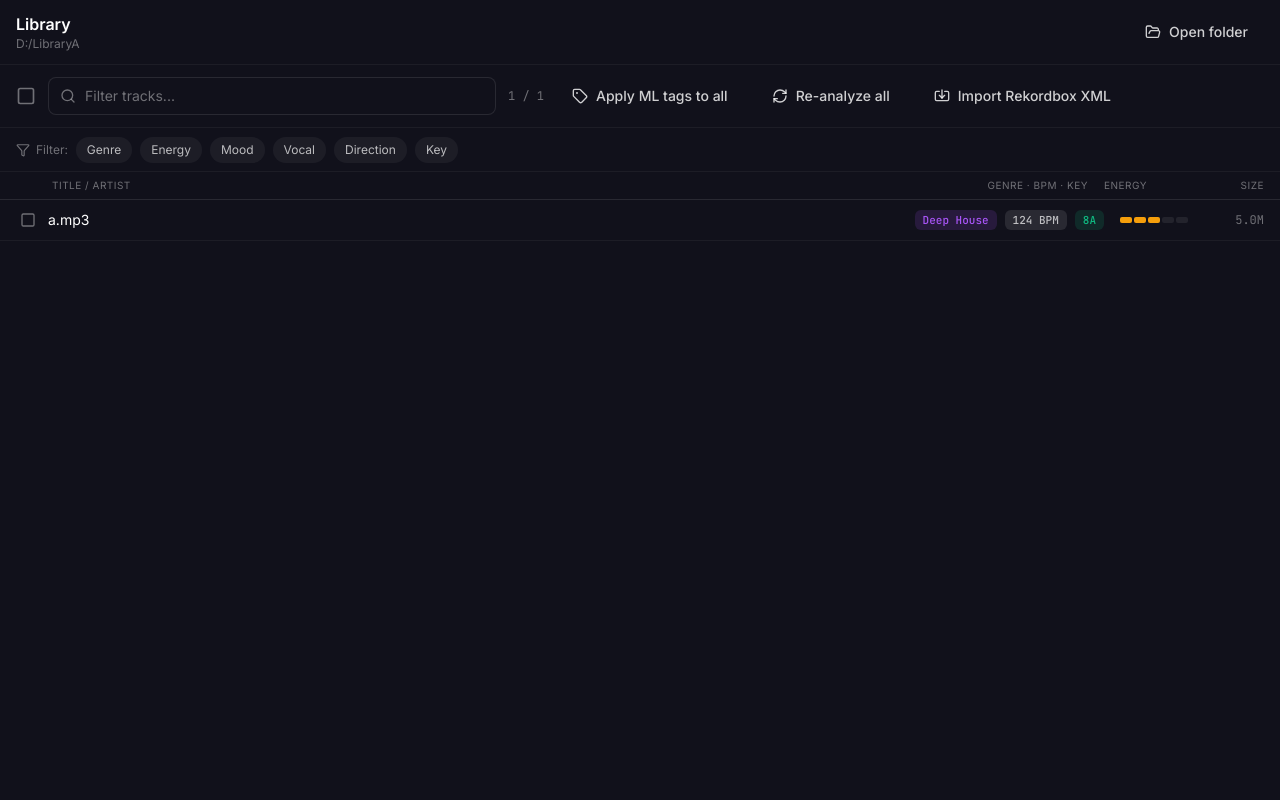
Test: <LibraryBrowser /> — bulk-tag confirm preview › promises no genre write at all when write_genre is off
Click the button "Apply ML tags to all" at (650, 96), box [556, 78, 744, 114]
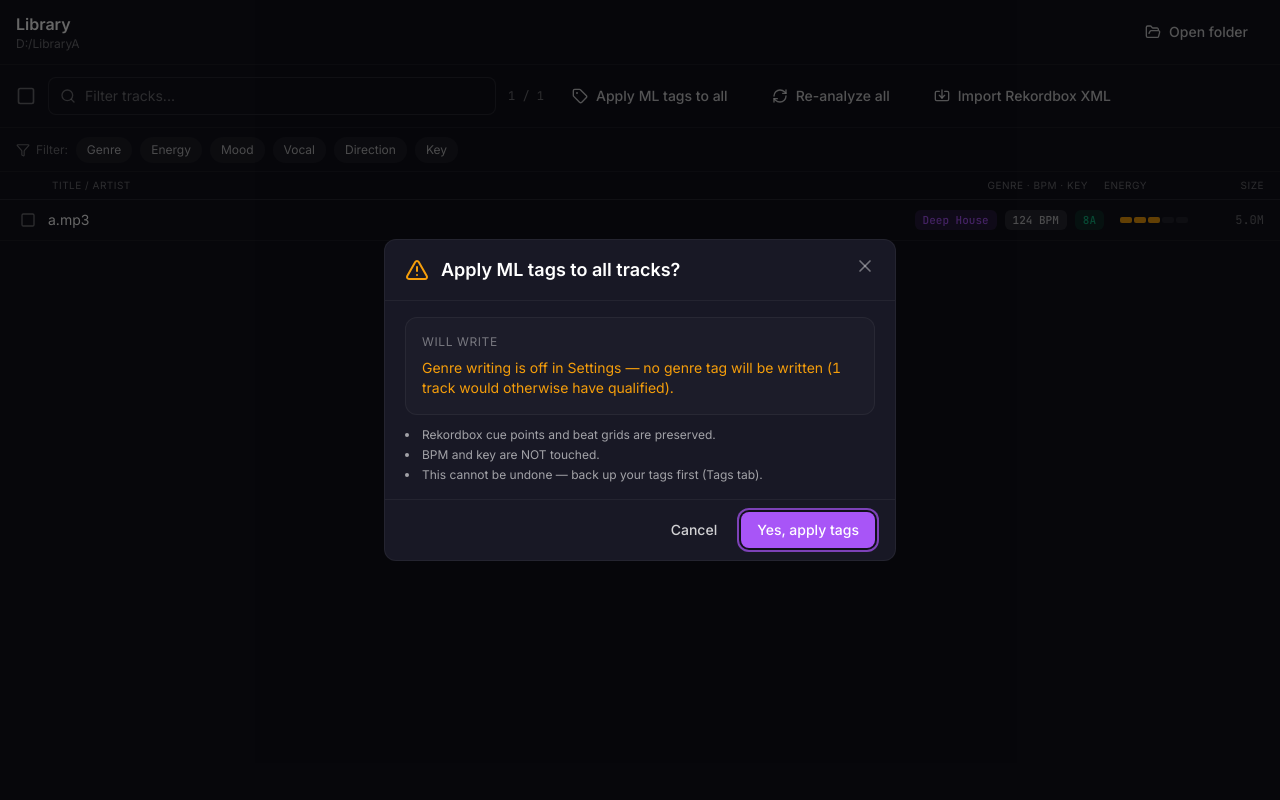
Result: the text "Genre writing is off in Settings" is shown at [422, 359, 823, 376]
